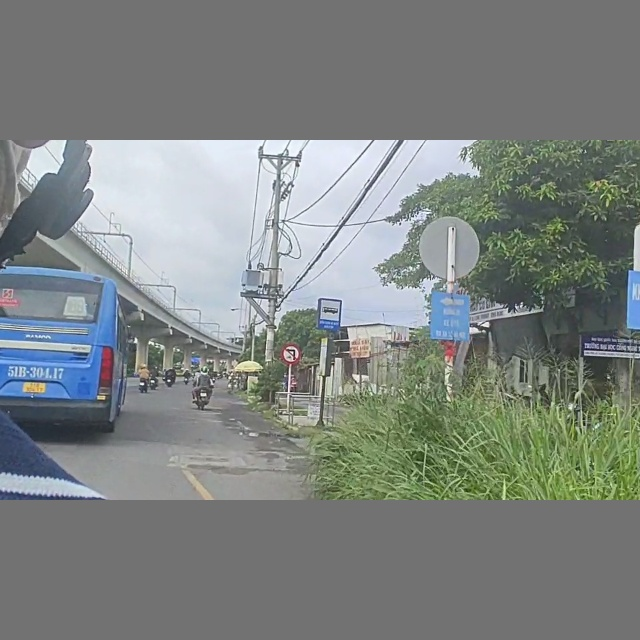I.434a: (315, 298, 343, 331)
P.123a: (280, 344, 303, 365)
